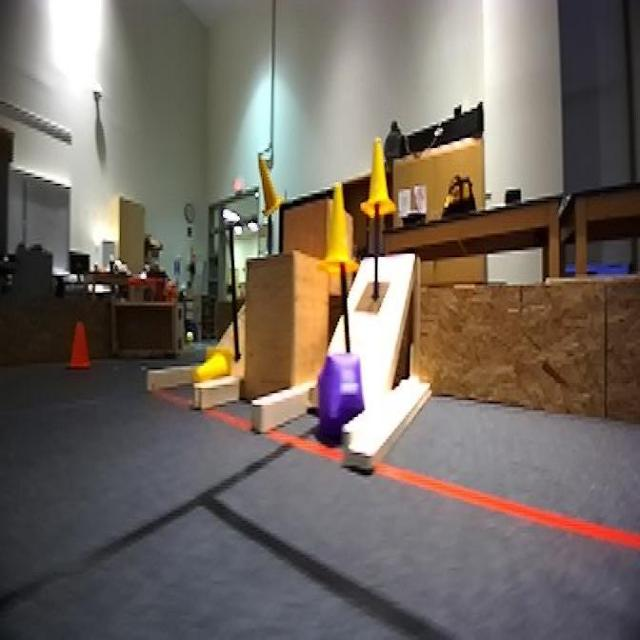frc_cone: (323, 177, 361, 269), (363, 141, 393, 218), (193, 344, 236, 388), (256, 153, 284, 218)
frc_cube: (311, 354, 363, 444)
